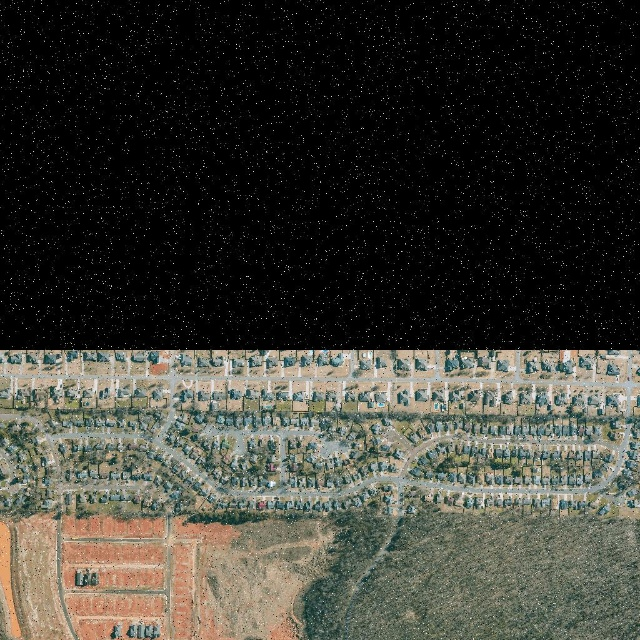vegetation: (300, 515, 640, 640)
